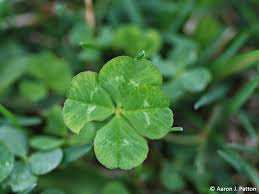4-clover: (62, 56, 176, 171)
